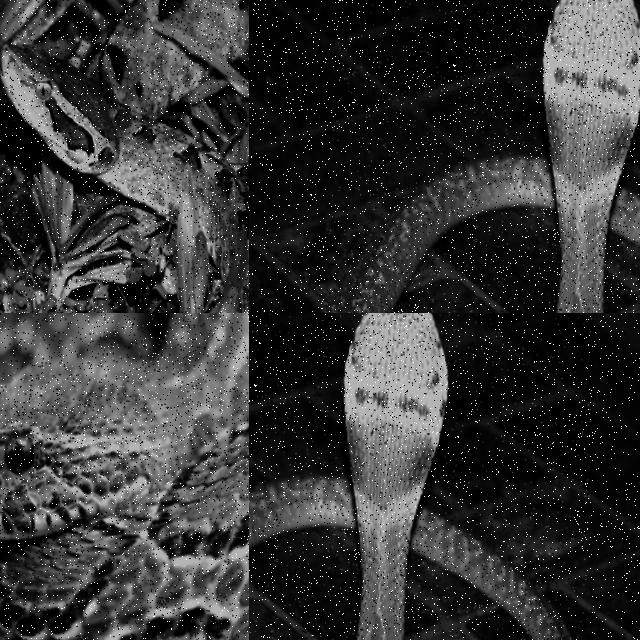Calloselasma rhodostoma: (0, 0, 248, 312)
Daboia siamensis: (0, 313, 248, 639)
Naja kaouthia: (249, 313, 571, 639), (328, 0, 639, 312)
